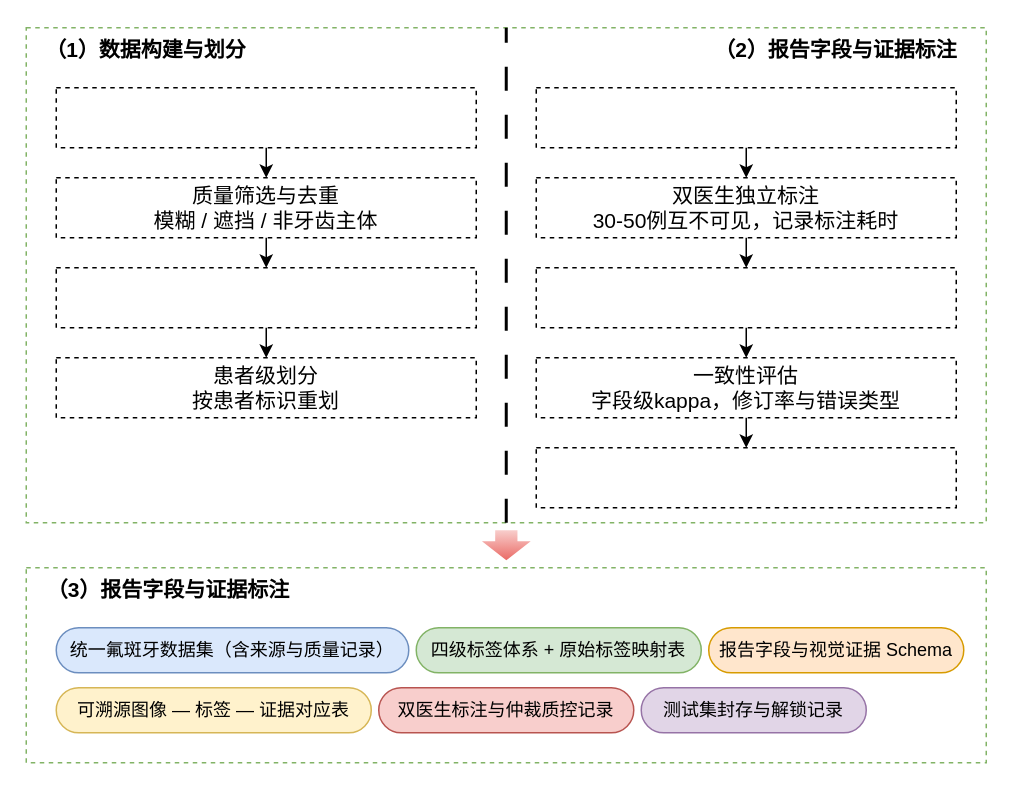
This 1013x789 diagram has some shape labels left out. Here are the shapes that lost their labels. From the top down, the box of each, then its label:
(55, 86, 476, 148): 团队数据 + 数据扩充
(535, 86, 956, 148): 字段与Schema设计 部位 / 牙面 / 征象 / 否定 / 不可判断 / 证据ID
(55, 266, 476, 328): 图谱挡位映射 正常 / 轻度 / 中度 / 重度
(535, 266, 956, 328): 专家仲裁 分歧复核与修订，第三人裁定
(535, 446, 956, 508): 标注手册定稿 Schema冻结与版本记录，扩大到全量标注
